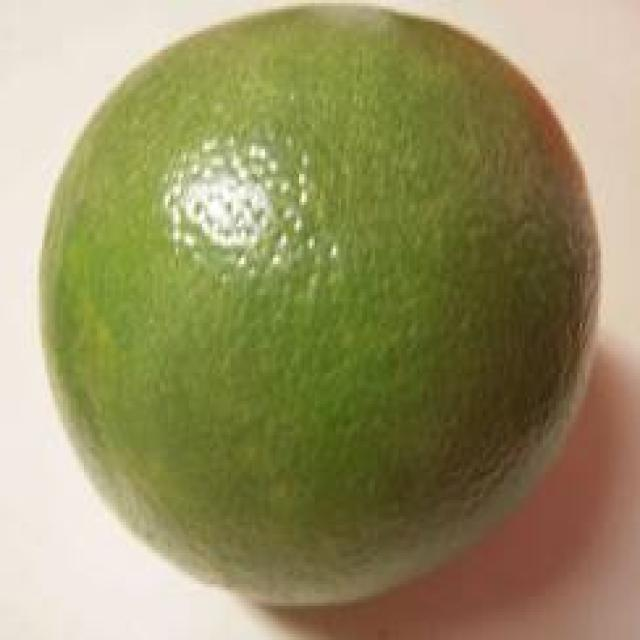greapefurit: (26, 0, 603, 590)
